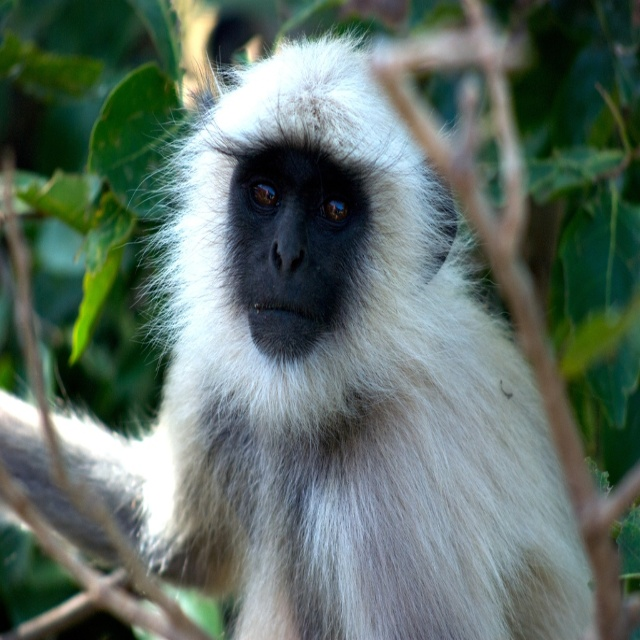Monkey: (0, 23, 614, 622)
